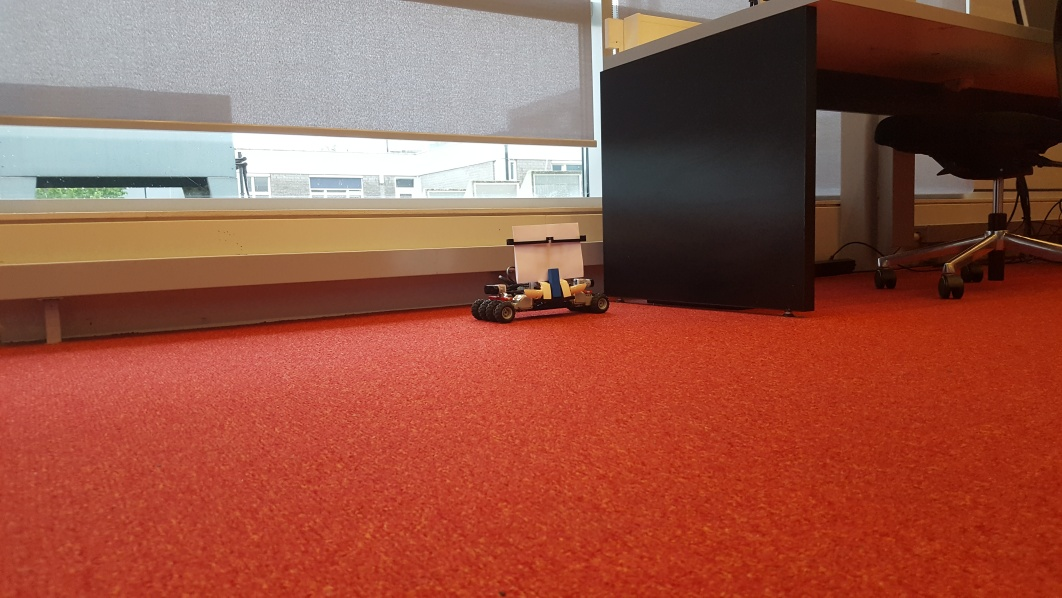car: (470, 222, 609, 319)
